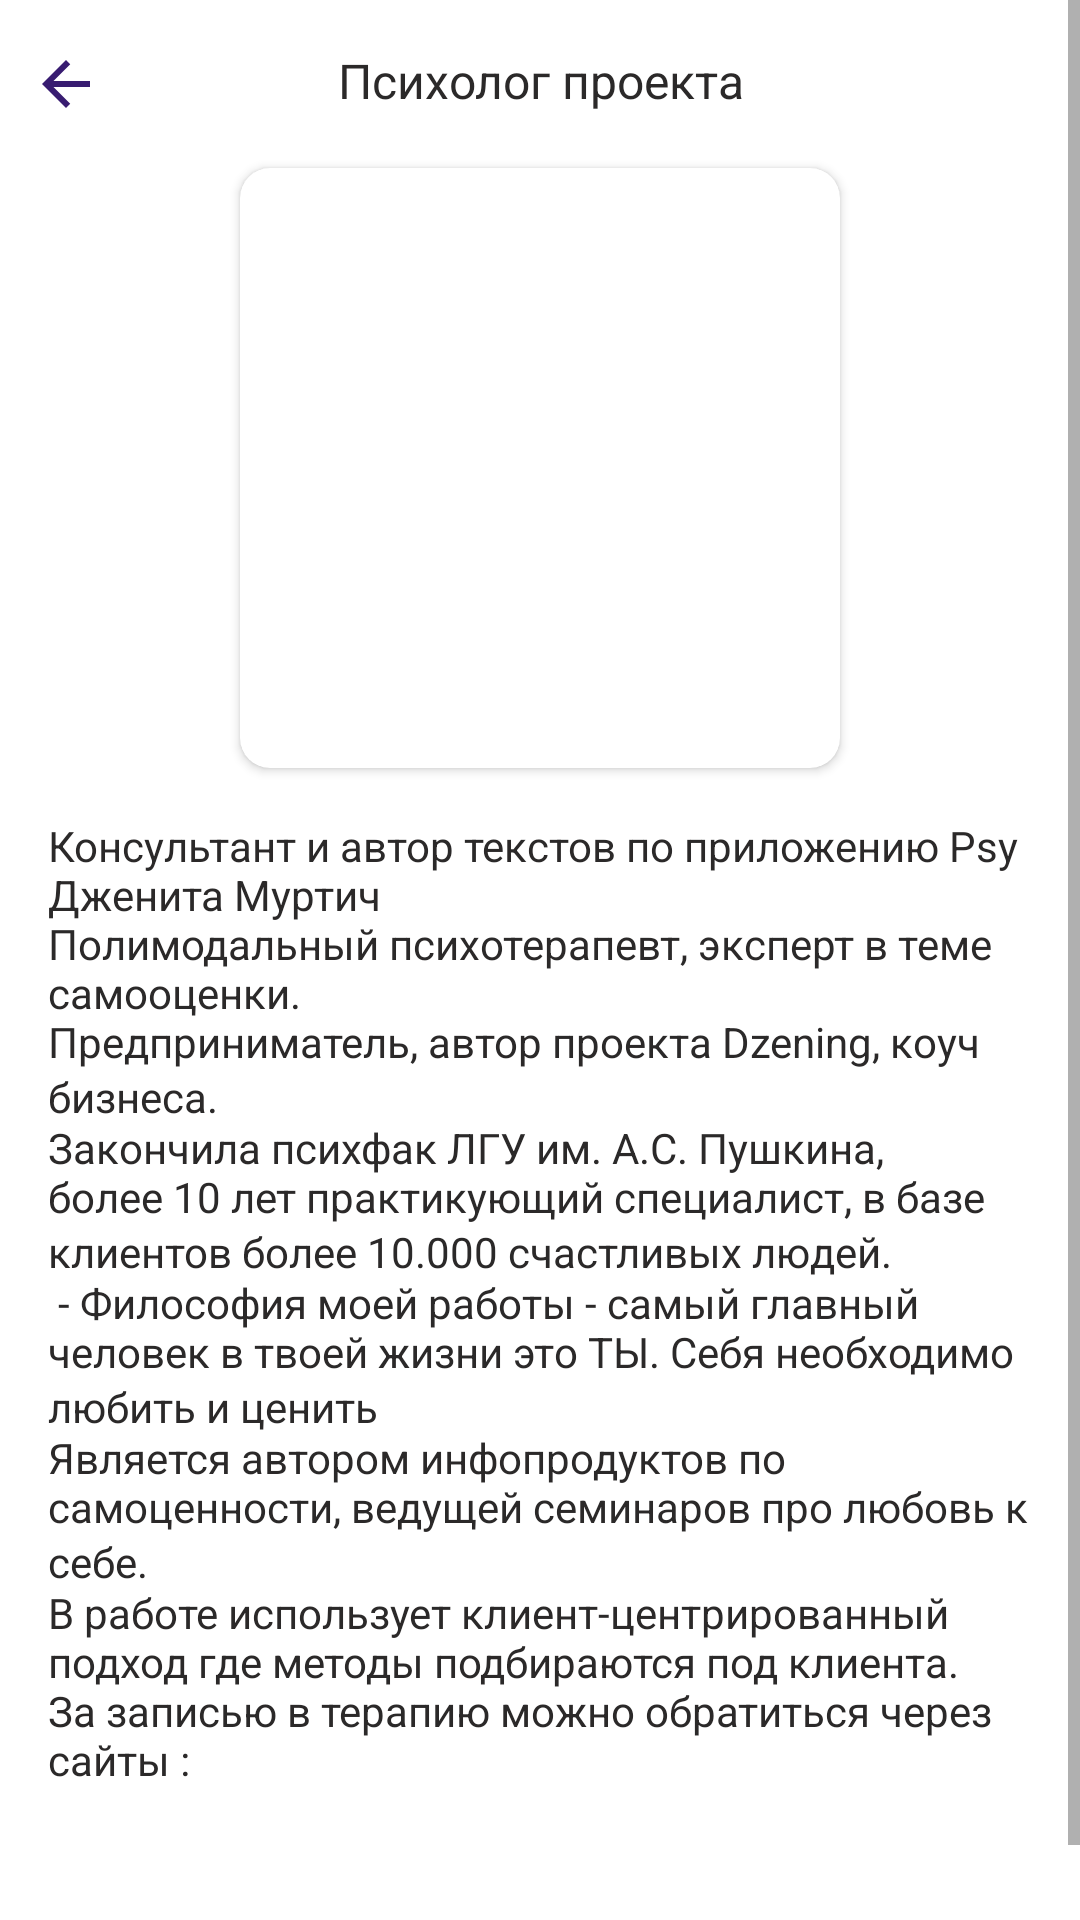

Named icons in this screenshot (1080px x 1920px) and their centers, [x,y]:
arrow back: [66,84]
